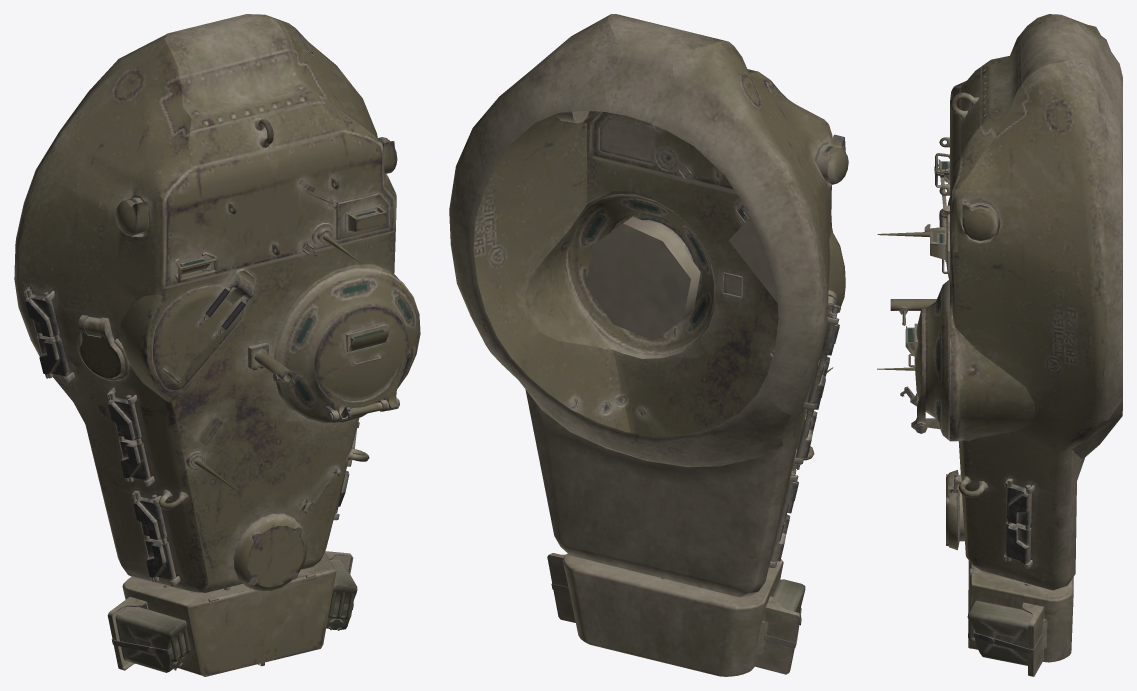
Rendered from Turret_02.glb.
The picture shows the model from 3 angles, left to right: view 1: azimuth 30°, elevation 25°; view 2: azimuth 150°, elevation 25°; view 3: azimuth 270°, elevation 25°; orthographic projection. The views are drawn at different scales.
Visible parts, largest first — view 1: set_0_group_0; view 2: set_0_group_0; view 3: set_0_group_0.
Part boxes in pixels (bbox=[...]): set_0_group_0: bbox=[14, 14, 420, 676]; set_0_group_0: bbox=[449, 14, 848, 676]; set_0_group_0: bbox=[877, 14, 1122, 676].
Size of the model in its own units: 2.27 by 3.61 by 1.37.
Materials: 1 (1 with a texture image).
